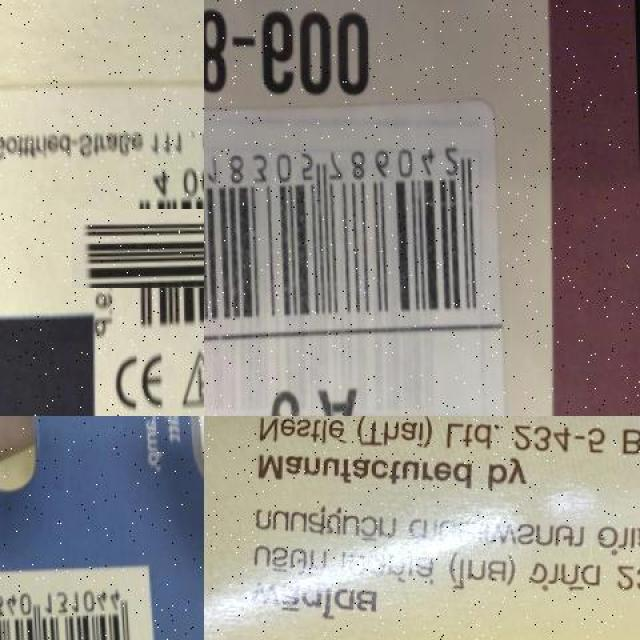Barcode: (204, 135, 496, 328), (98, 183, 230, 314), (0, 579, 149, 640)
